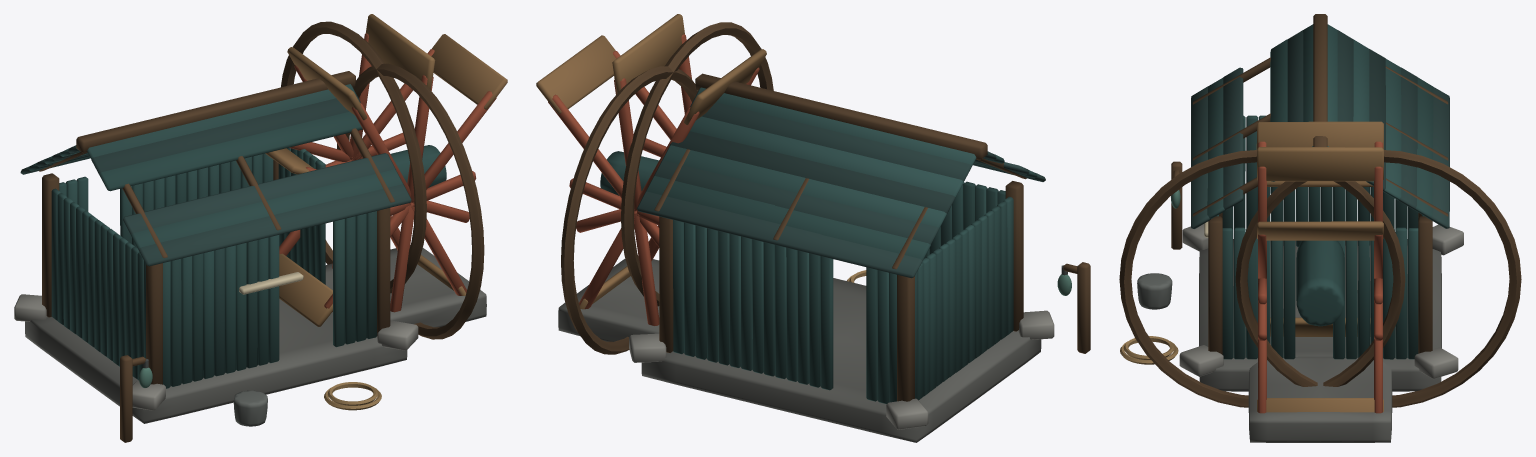
File: sluice_shed_b.glb
3 renders of one model, left to right at view 1: azimuth 30°, elevation 25°; view 2: azimuth 150°, elevation 25°; view 3: azimuth 270°, elevation 25°, orthographic. The views are drawn at different scales.
Visible parts, largest first — view 1: Surface; view 2: Surface; view 3: Surface.
Part boxes in pixels (x1,y1,x2,y2): Surface: (14,14,507,442); Surface: (536,14,1090,442); Surface: (1119,14,1521,442).
Bounding box in the file's own units: 9.02 × 5.65 × 7.28.
